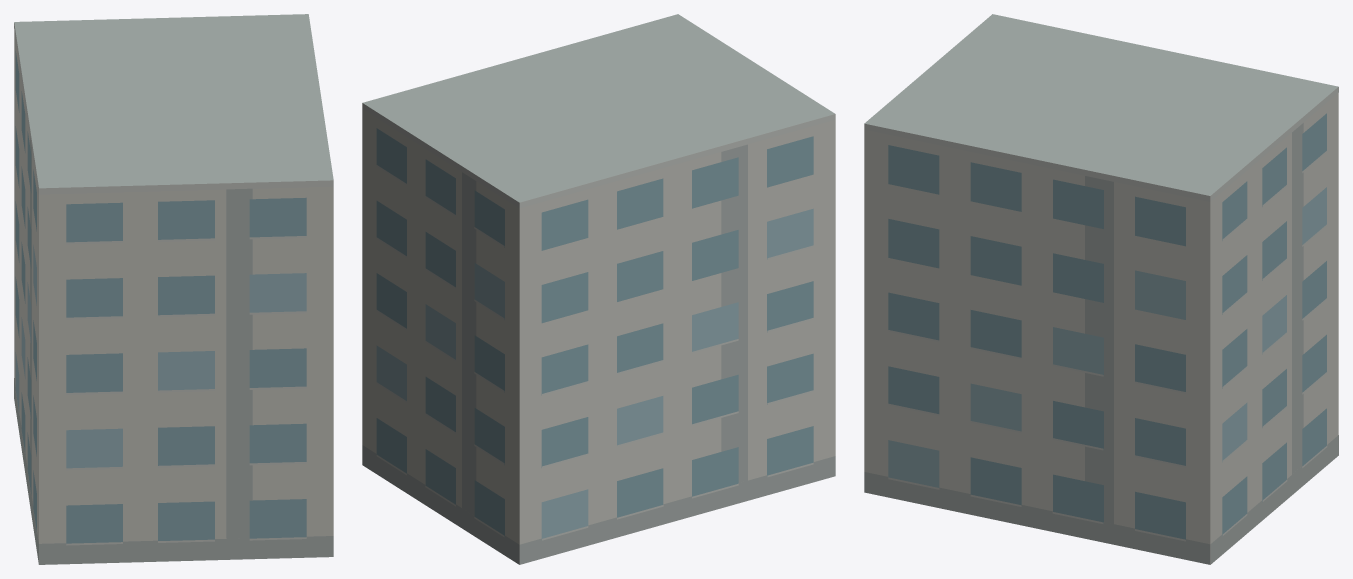
Rendered from residential-317d6934-b195-4c6d-b969-b91562c122a8.glb.
3 views of the same model, side by side, from view 1: azimuth 30°, elevation 25°; view 2: azimuth 150°, elevation 25°; view 3: azimuth 270°, elevation 25° (orthographic). The views are drawn at different scales.
Parts seen in each view (by area): view 1: residential-317d6934-b195-4c6d-b969-b91562c122a8.tmp; view 2: residential-317d6934-b195-4c6d-b969-b91562c122a8.tmp; view 3: residential-317d6934-b195-4c6d-b969-b91562c122a8.tmp.
Part boxes in pixels (bbox=[...]): residential-317d6934-b195-4c6d-b969-b91562c122a8.tmp: bbox=[14, 14, 333, 564]; residential-317d6934-b195-4c6d-b969-b91562c122a8.tmp: bbox=[362, 14, 835, 564]; residential-317d6934-b195-4c6d-b969-b91562c122a8.tmp: bbox=[864, 14, 1338, 564].
Size of the model in its own units: 15.89 by 15 by 17.5.
